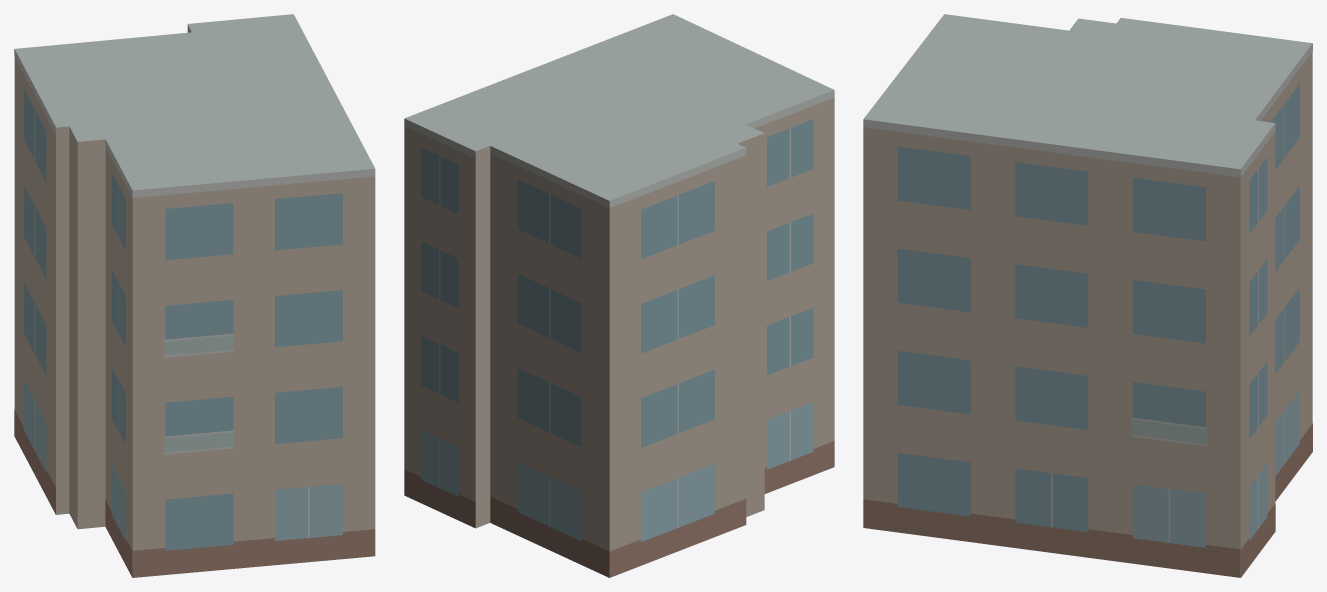
File: survey-upis-32875303.glb
The picture shows the model from 3 angles, left to right: view 1: azimuth 30°, elevation 25°; view 2: azimuth 150°, elevation 25°; view 3: azimuth 270°, elevation 25°; orthographic projection. The views are drawn at different scales.
Visible parts, largest first — view 1: survey-upis-32875303.tmp; view 2: survey-upis-32875303.tmp; view 3: survey-upis-32875303.tmp.
Boxes of the visible parts, x1,y1,x2,y2 form: survey-upis-32875303.tmp: (14, 14, 375, 577); survey-upis-32875303.tmp: (404, 14, 834, 577); survey-upis-32875303.tmp: (863, 14, 1312, 577).
Bounding box in the file's own units: 10.12 × 12.4 × 12.37.
